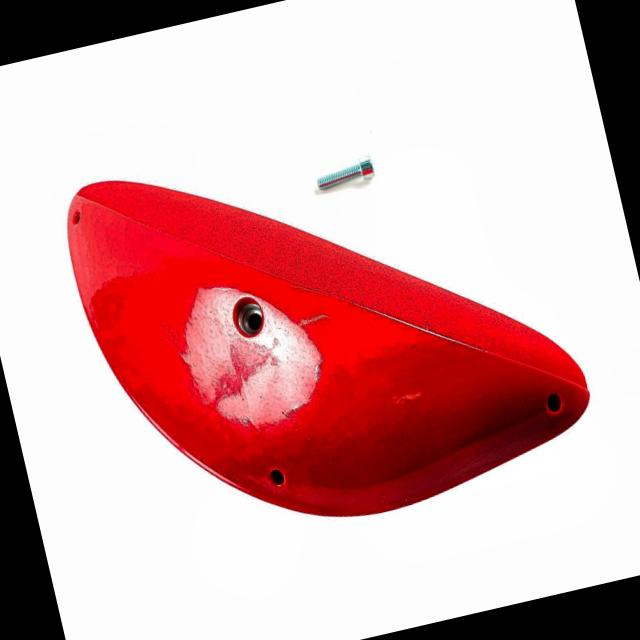Hold: (64, 166, 603, 523)
